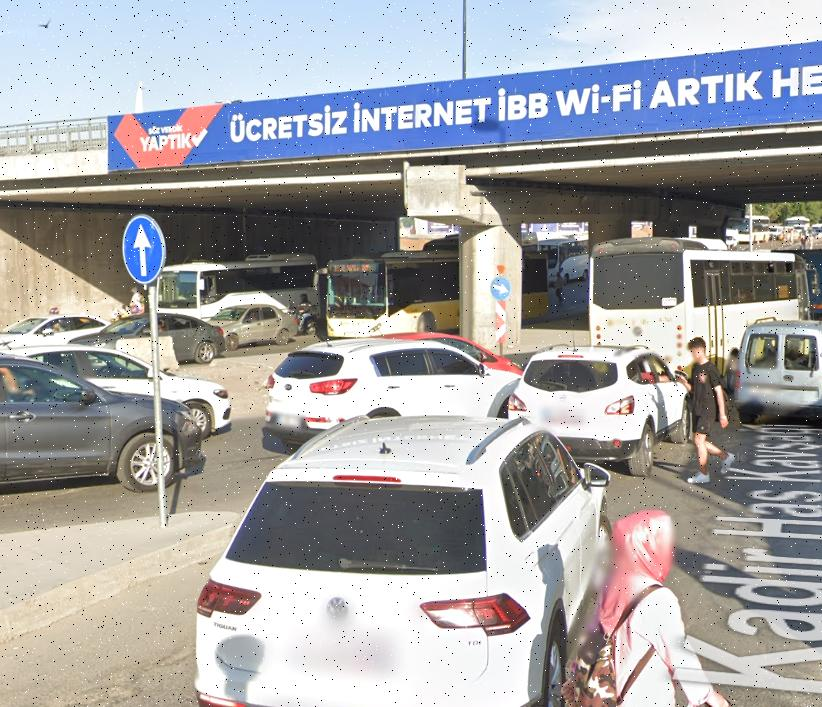forward: (121, 217, 167, 281)
